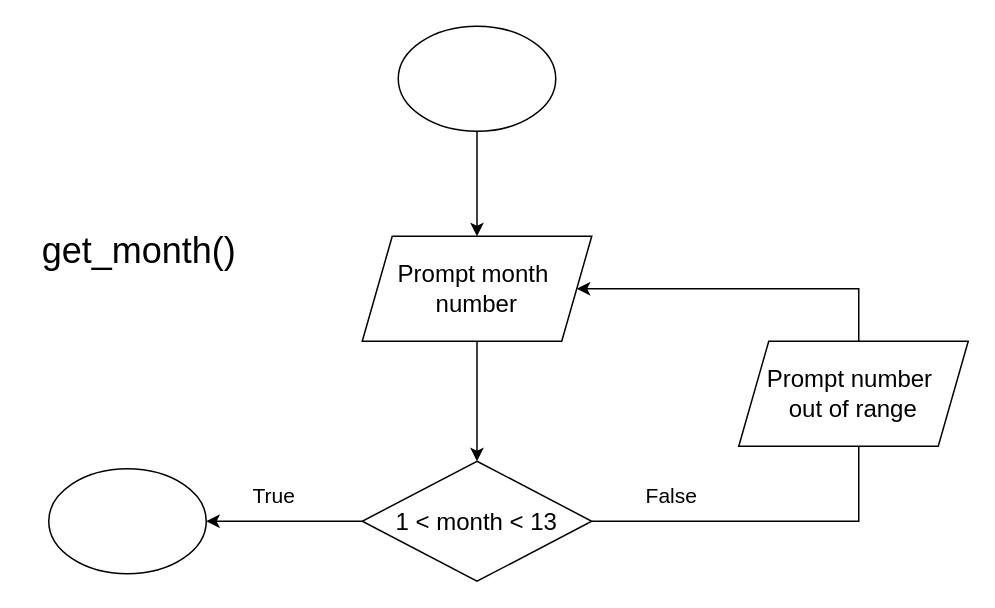
Image size: 995x608. Some labels were removed from this diagram. Each missing label, with the centre of its shape:
end: the point at 126,520
start: the point at 476,78
